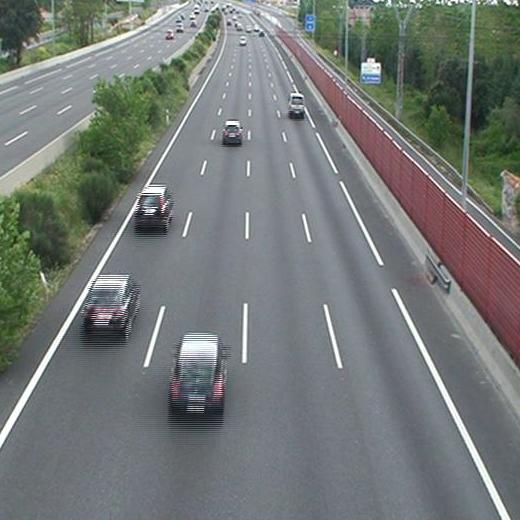car: (169, 335, 223, 411), (83, 277, 138, 329), (134, 188, 173, 224), (222, 121, 242, 142), (289, 94, 305, 115)
van: (238, 35, 247, 45)
